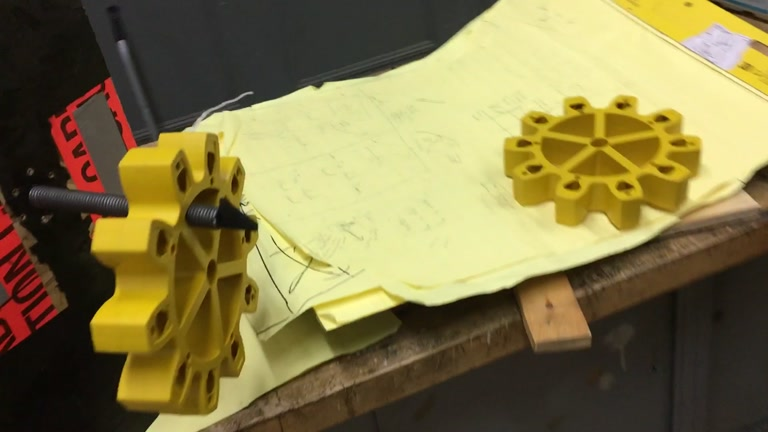gear: (88, 130, 260, 417), (503, 95, 702, 232)
